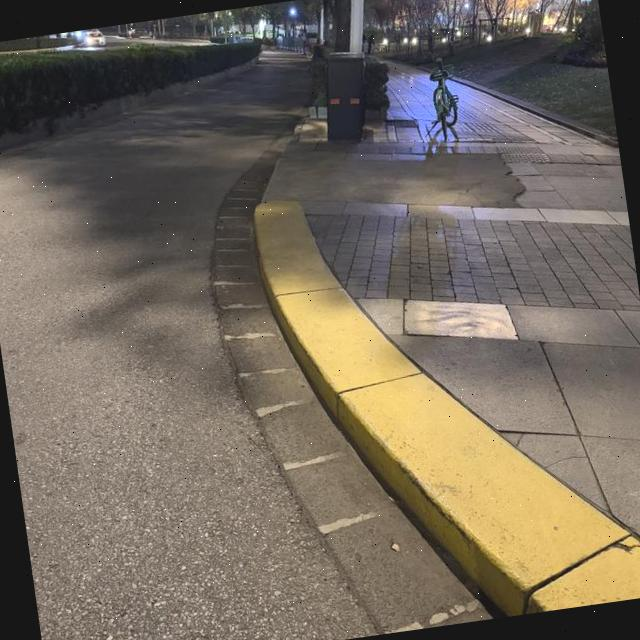curb: (253, 178, 640, 616), (55, 58, 257, 134), (456, 79, 618, 147), (0, 120, 45, 154)
